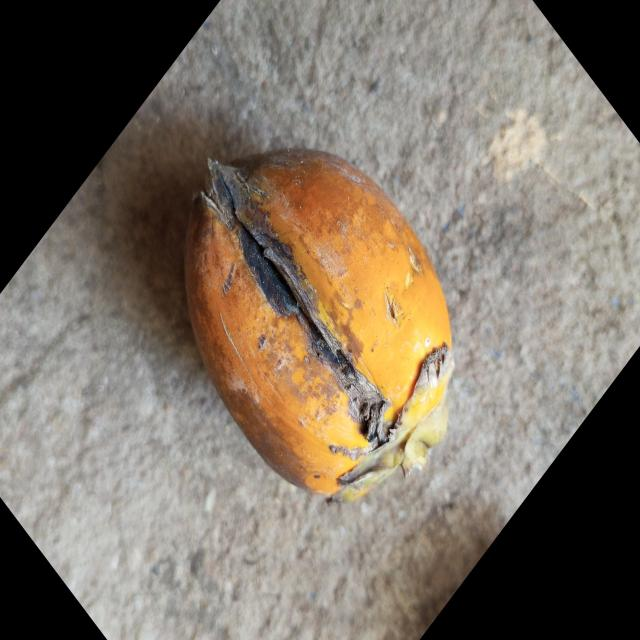damaged: (185, 150, 454, 501)
